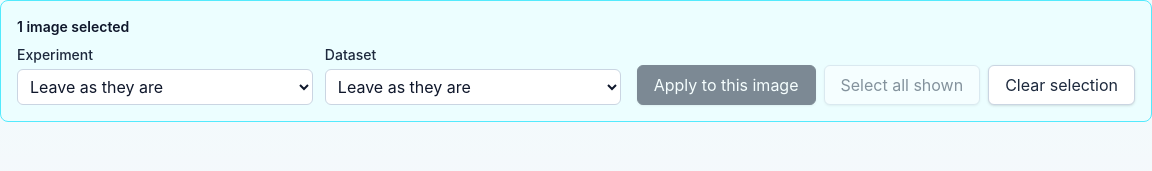
Test: LibrarySelectionBar › says what went wrong instead of failing silently
Select "Fasted cohort (1)" in the dropdown labelled "Experiment" at (165, 87), box [17,69,313,105]
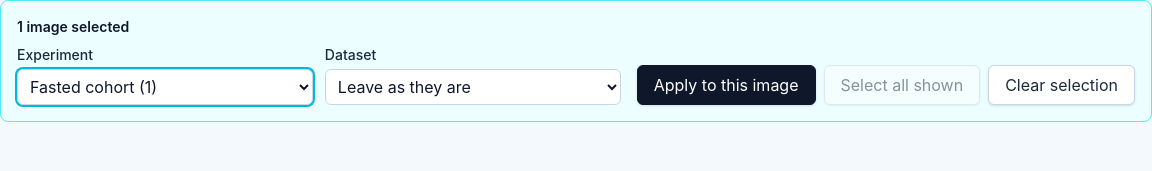
Click the button "Apply to this image" at (726, 85), box [637,65,816,105]
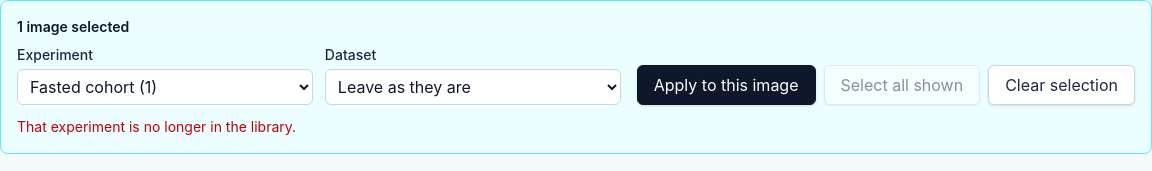
Expected: the text "That experiment is no longer in the library." is shown, [17,118,296,135]
